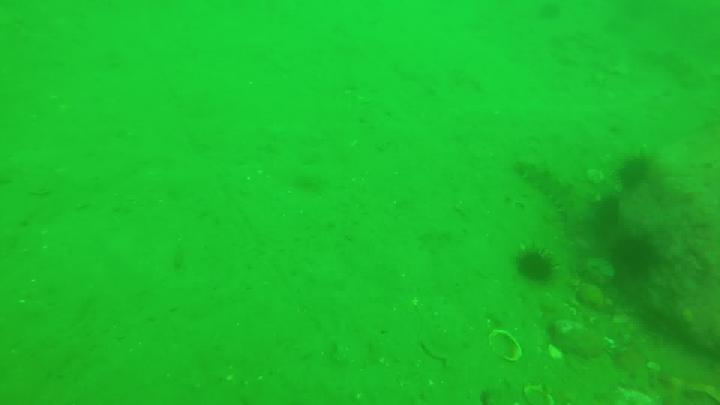echinus: (620, 158, 669, 189), (518, 248, 556, 286), (612, 236, 645, 275), (595, 197, 620, 225)
holothurian: (516, 160, 582, 238)
scallop: (490, 329, 523, 363), (522, 384, 553, 405)
